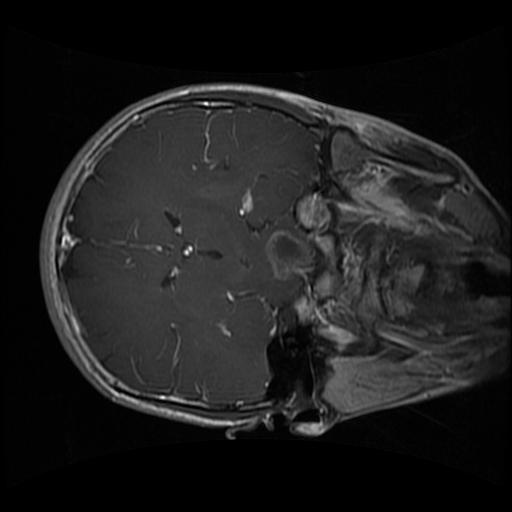glioma: (263, 226, 319, 284)
